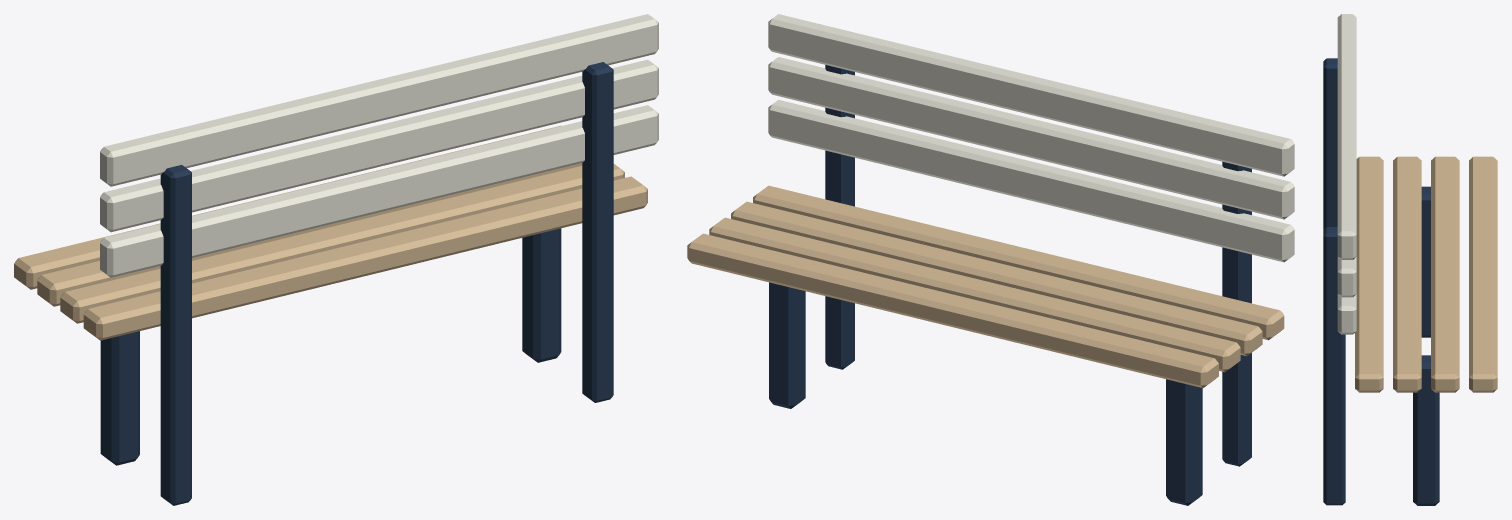
The model's file is harbor_bench.glb.
3 renders of one model, left to right at view 1: azimuth 30°, elevation 25°; view 2: azimuth 150°, elevation 25°; view 3: azimuth 270°, elevation 25°, orthographic. The views are drawn at different scales.
Parts seen in each view (by area): view 1: back_slat (×3), seat_slat (×4), back_support (×2), leg (×2); view 2: back_slat (×3), seat_slat (×4), leg (×2), back_support (×2); view 3: seat_slat (×4), back_support (×2), back_slat (×3), leg (×2).
Boxes of the visible parts, x1,y1,x2,y2 form: back_slat (×3): (100,14,658,277); seat_slat (×4): (14,125,647,340); back_support (×2): (160,62,613,505); leg (×2): (100,228,561,465); back_slat (×3): (768,14,1294,262); seat_slat (×4): (687,185,1284,387); leg (×2): (769,282,1202,505); back_support (×2): (825,65,1251,466); seat_slat (×4): (1355,156,1497,392); back_support (×2): (1323,58,1345,505); back_slat (×3): (1337,14,1356,334); leg (×2): (1413,186,1439,505).
Bounding box in the file's own units: 1.65 × 1.03 × 0.55.
